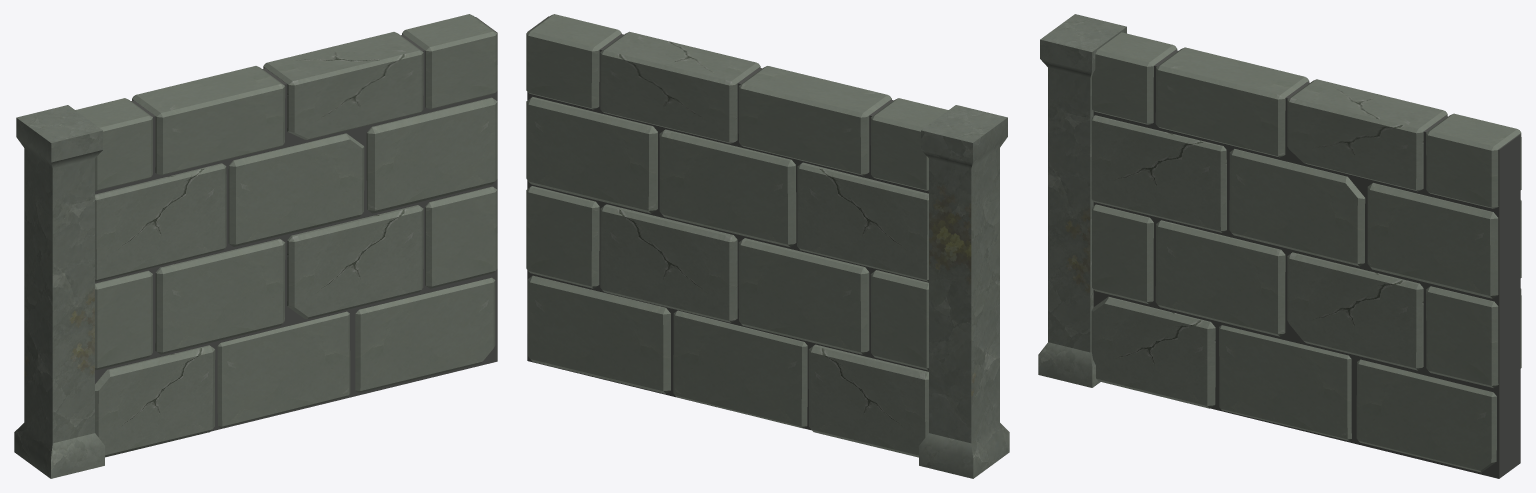
The model's file is FIX_Wall001_L_Pillar.fbx.
The picture shows the model from 3 angles, left to right: view 1: azimuth 30°, elevation 25°; view 2: azimuth 150°, elevation 25°; view 3: azimuth 330°, elevation 25°; orthographic projection.
Parts seen in each view (by area): view 1: polySurface10; view 2: polySurface10; view 3: polySurface10.
Boxes of the visible parts, box(x1,y1,x2,y2) form: polySurface10: box(14, 14, 497, 478); polySurface10: box(526, 14, 1009, 478); polySurface10: box(1038, 14, 1521, 478).
Size of the model in its own units: 18.3 by 12.91 by 2.55.
Materials: 8 (7 with a texture image).
